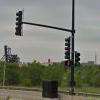Traffic light: (58, 29, 91, 69)
